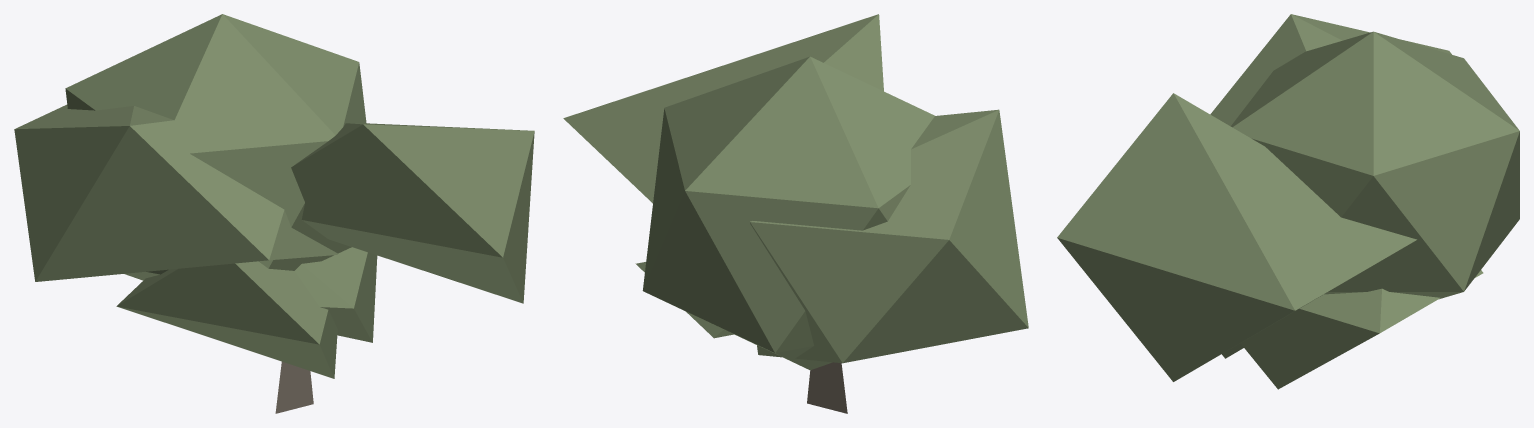
File: bush_a_LOD1.fbx
3 renders of one model, left to right at view 1: azimuth 30°, elevation 25°; view 2: azimuth 150°, elevation 25°; view 3: azimuth 270°, elevation 25°, orthographic. The views are drawn at different scales.
Visible parts, largest first — view 1: bush_a_LOD1; view 2: bush_a_LOD1; view 3: bush_a_LOD1.
Boxes of the visible parts, box(x1,y1,x2,y2) form: bush_a_LOD1: box(14, 14, 534, 413); bush_a_LOD1: box(563, 14, 1028, 413); bush_a_LOD1: box(1057, 14, 1519, 389).
Bounding box in the file's own units: 172 × 130 × 151.
